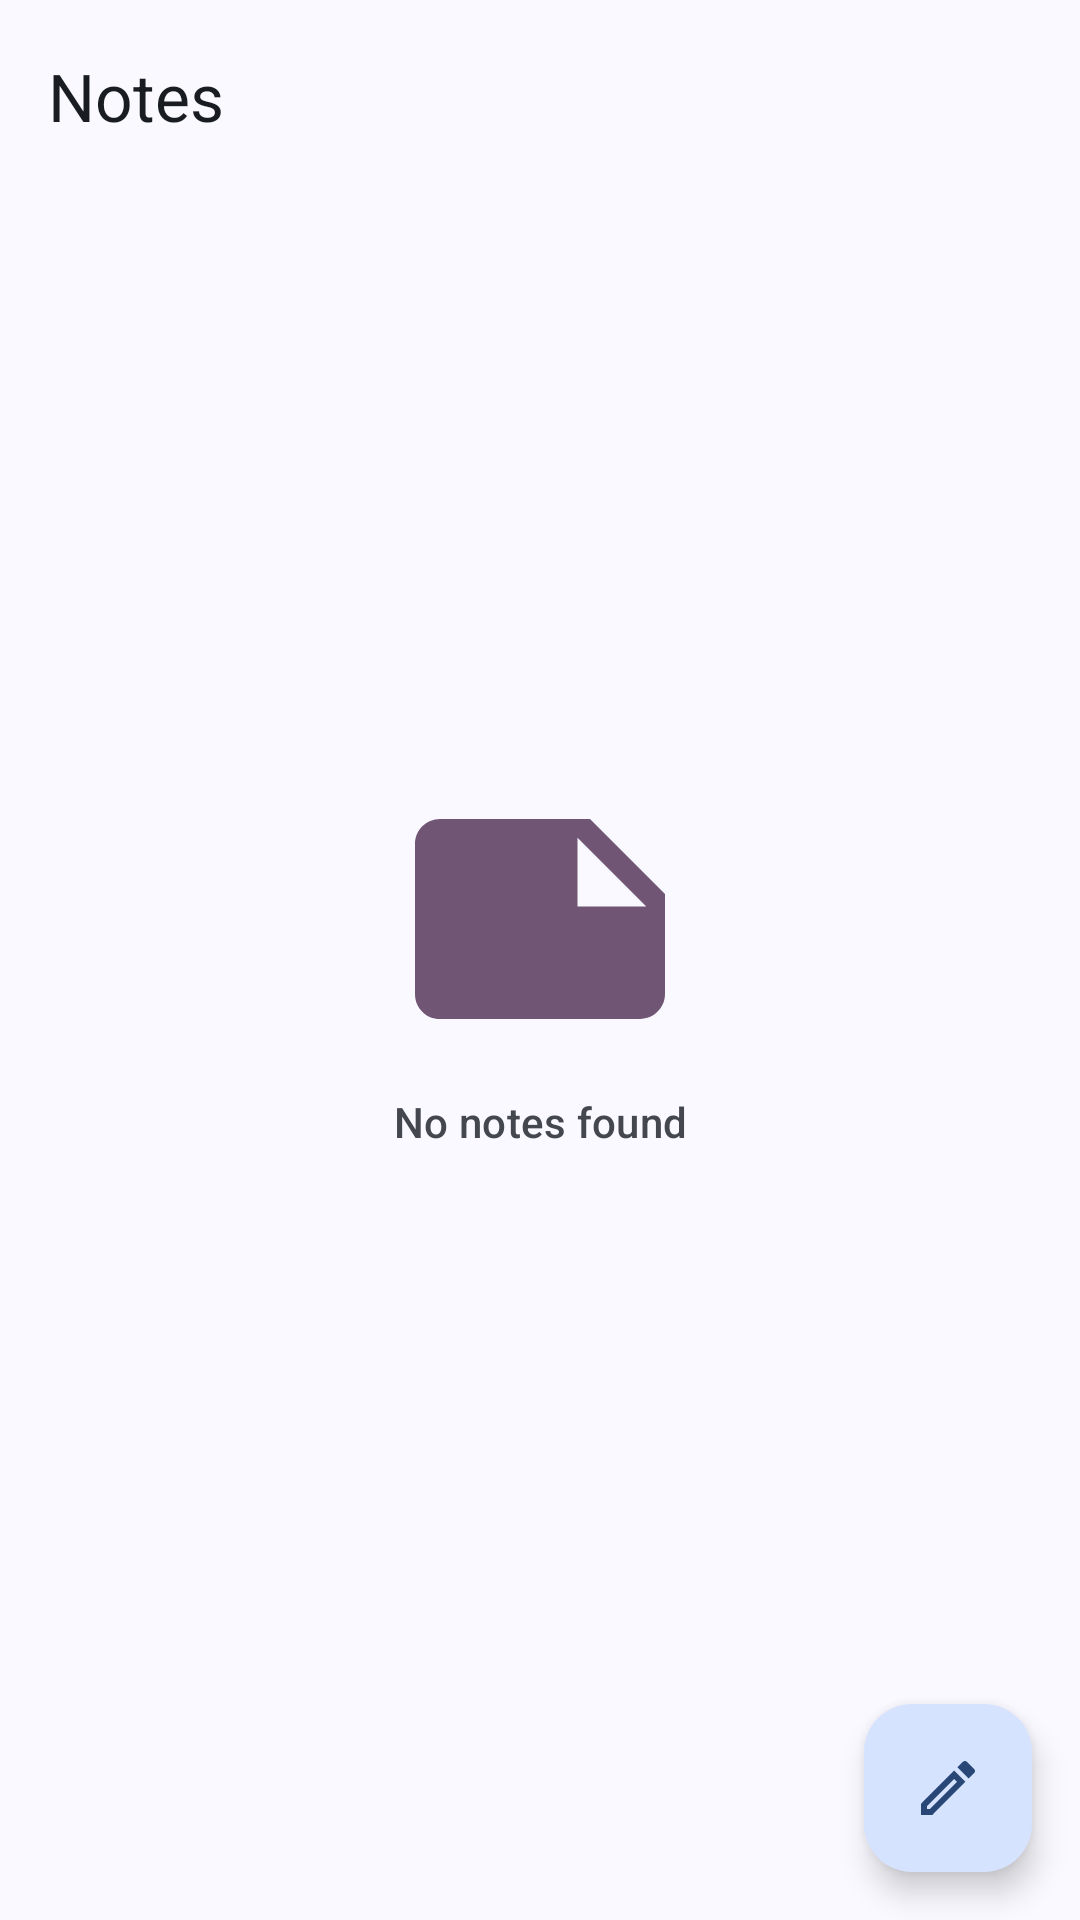

Screen size 1080 x 1920. Icon name, then its center in pixels as (x=x, y=y):
edit: (x=948, y=1788)
